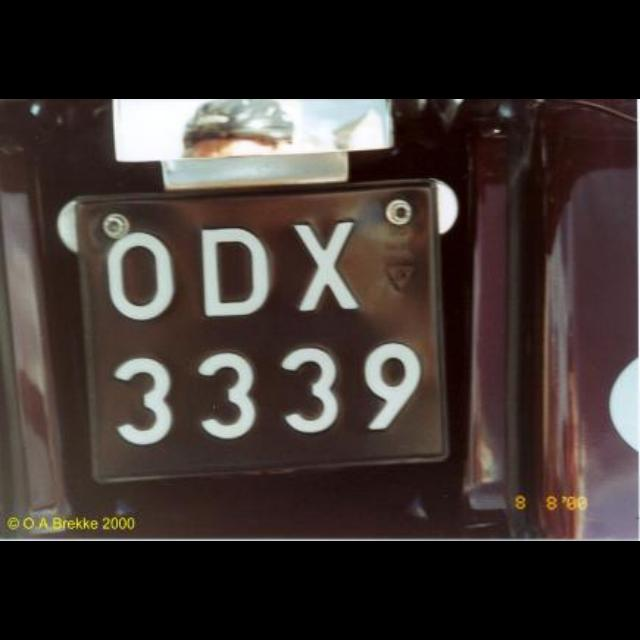pl_license_plate: (77, 187, 446, 476)
